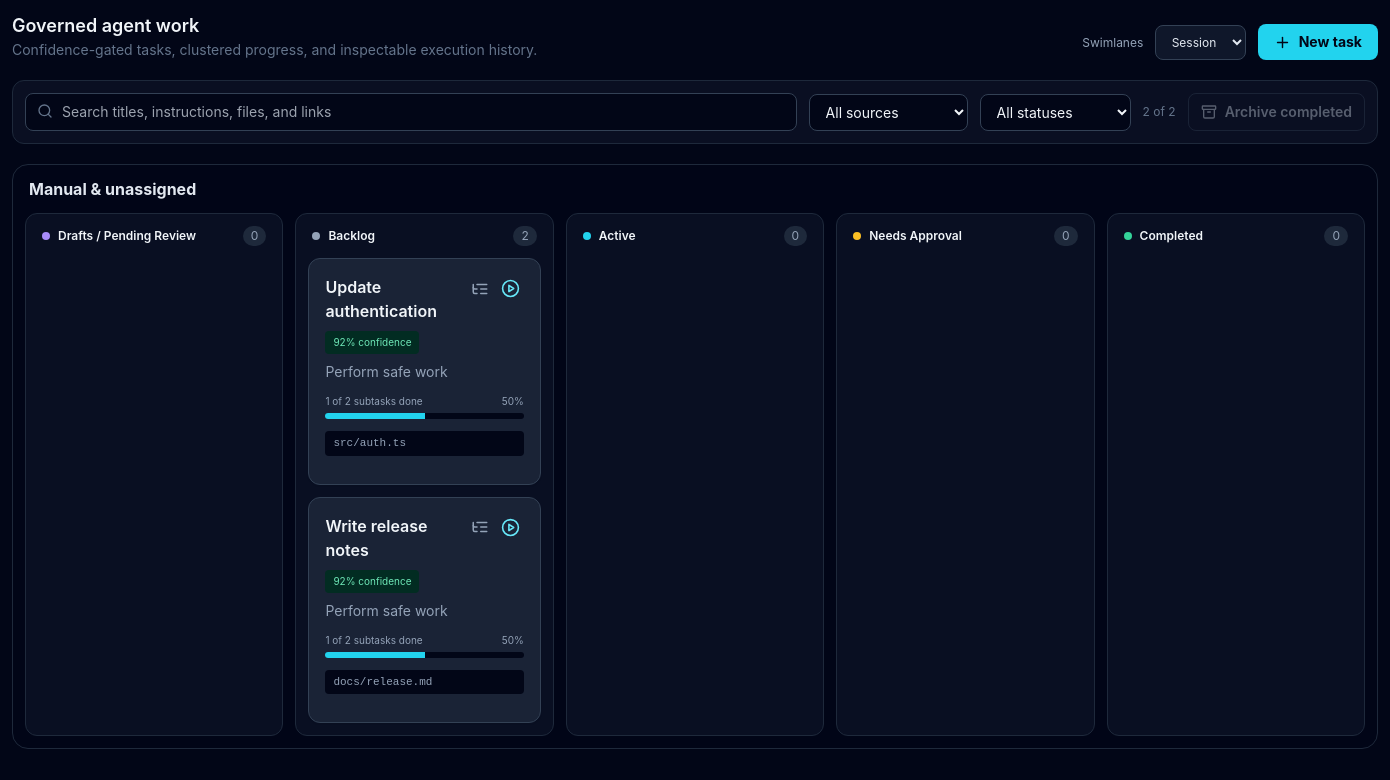
it: KanbanBoard governance view › searches tasks across titles and file paths
The image size is (1390, 780).
Type "release.md" into the field named "search tasks" at [411, 112], box [25,93,797,131]
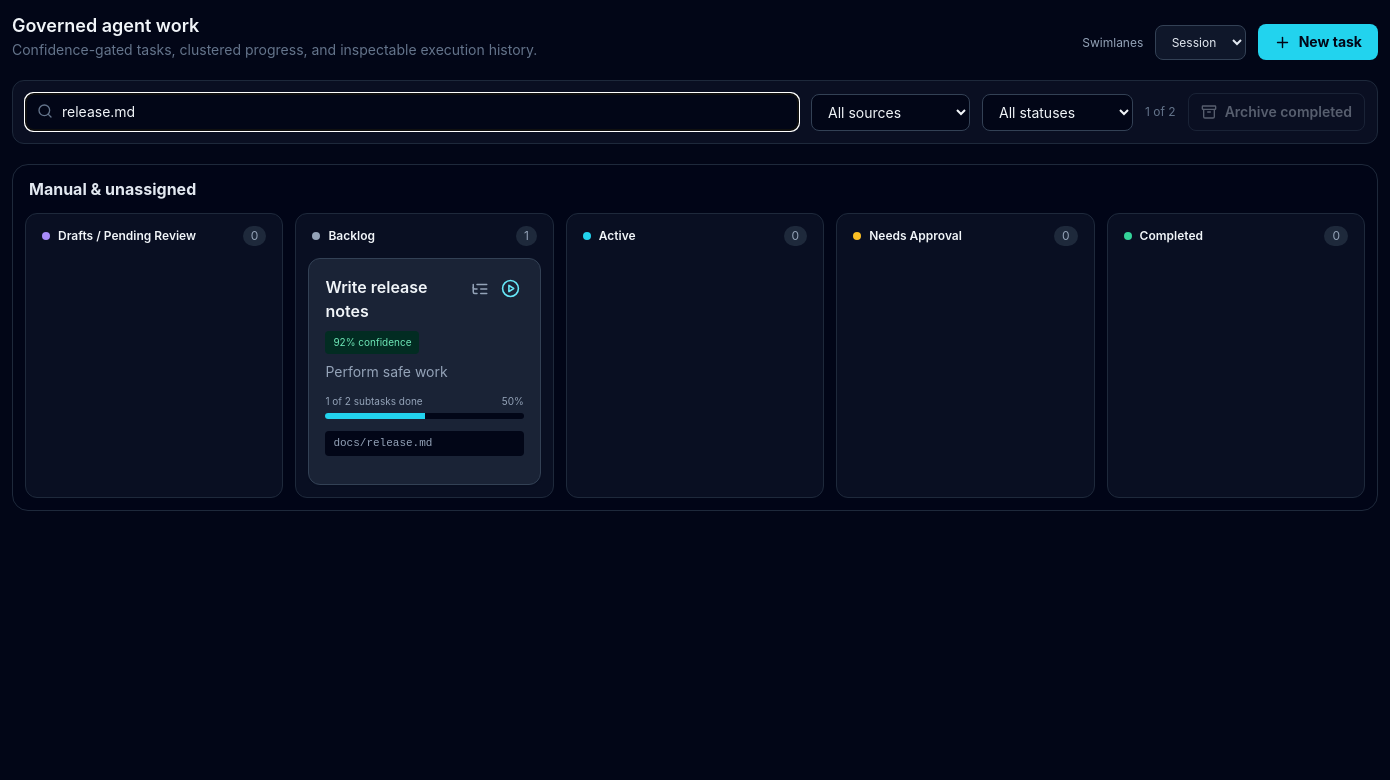
Expected: the heading "Write release notes" is shown, [325,277,428,321]
Result: the heading "Update authentication" is gone
